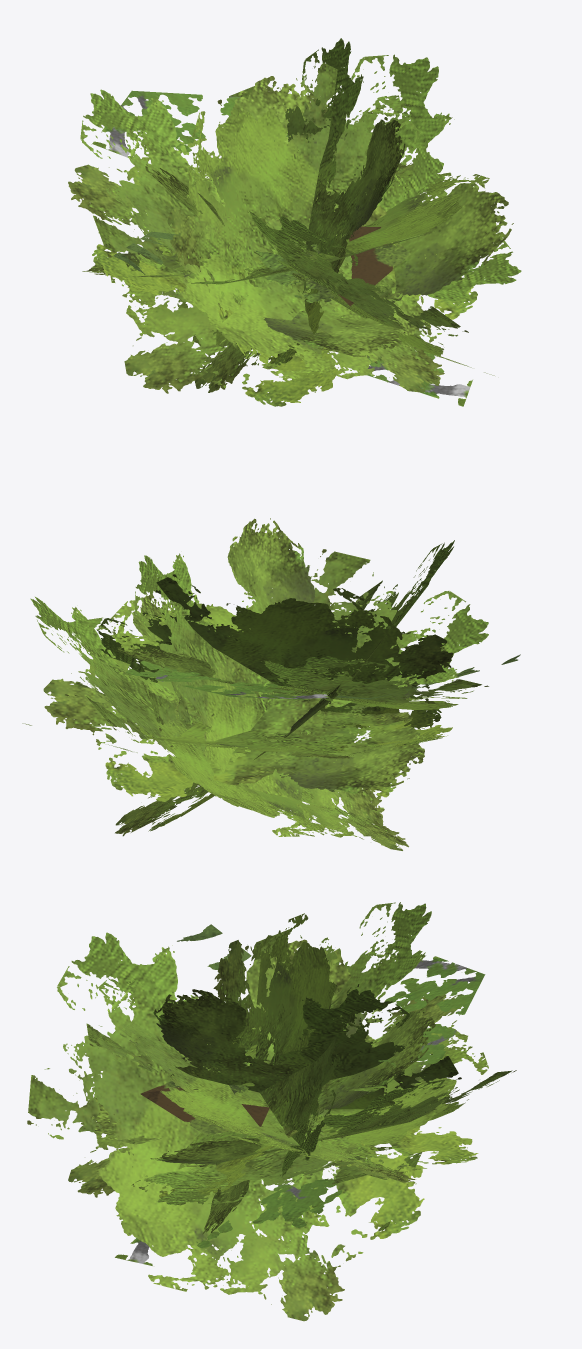
File: Plante_07.fbx
3 renders of one model, top to bottom at view 1: azimuth 30°, elevation 25°; view 2: azimuth 150°, elevation 25°; view 3: azimuth 270°, elevation 25°, orthographic. The views are drawn at different scales.
Parts seen in each view (by area): view 1: Plante_07; view 2: Plante_07; view 3: Plante_07.
Part boxes in pixels (x1,y1,x2,y2): Plante_07: (68,38,521,406); Plante_07: (22,518,520,850); Plante_07: (27,902,516,1321).
Bounding box in the file's own units: 1.74 × 1.28 × 1.75.
